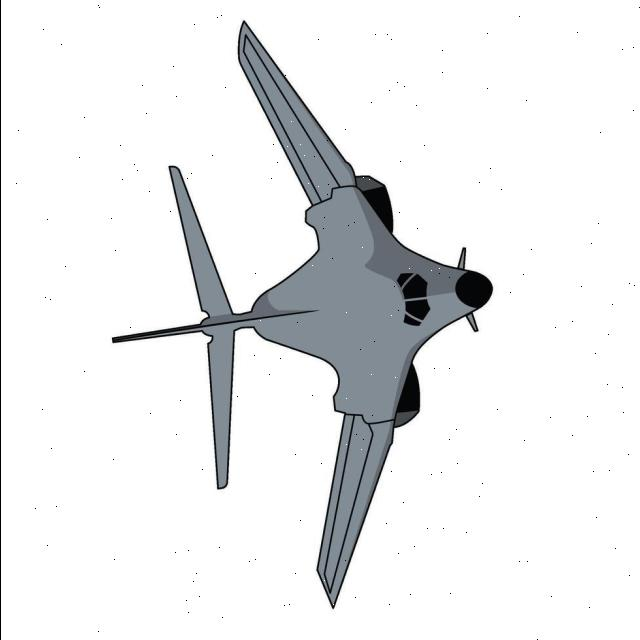B1: (132, 18, 497, 616)
